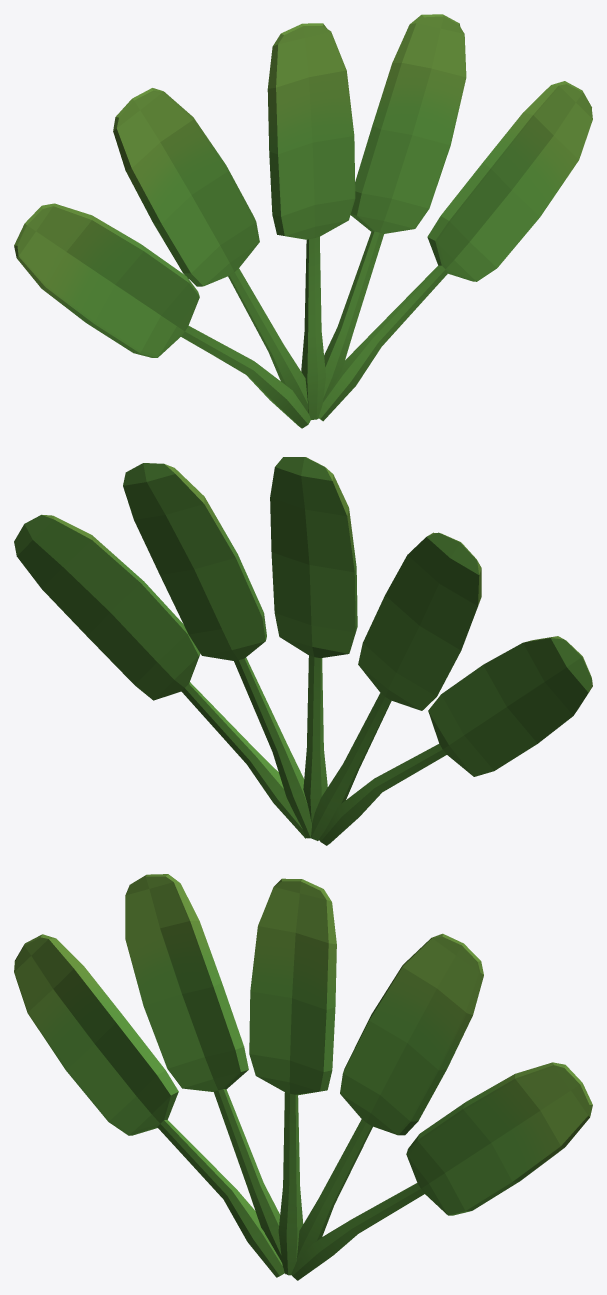
Rendered from Dino_Tree_Traveler.fbx.
The picture shows the model from 3 angles, top to bottom: view 1: azimuth 30°, elevation 25°; view 2: azimuth 150°, elevation 25°; view 3: azimuth 330°, elevation 25°; orthographic projection.
Visible parts, largest first — view 1: Dino_Tree_Traveler_mesh; view 2: Dino_Tree_Traveler_mesh; view 3: Dino_Tree_Traveler_mesh.
Part boxes in pixels (x1,y1,x2,y2): Dino_Tree_Traveler_mesh: [14, 14, 592, 428]; Dino_Tree_Traveler_mesh: [14, 457, 592, 845]; Dino_Tree_Traveler_mesh: [14, 874, 592, 1280].
Size of the model in its own units: 51.69 by 33.53 by 4.71.
